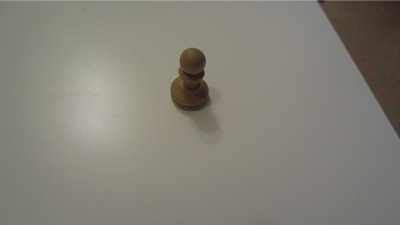white-pawn: (168, 47, 211, 112)
